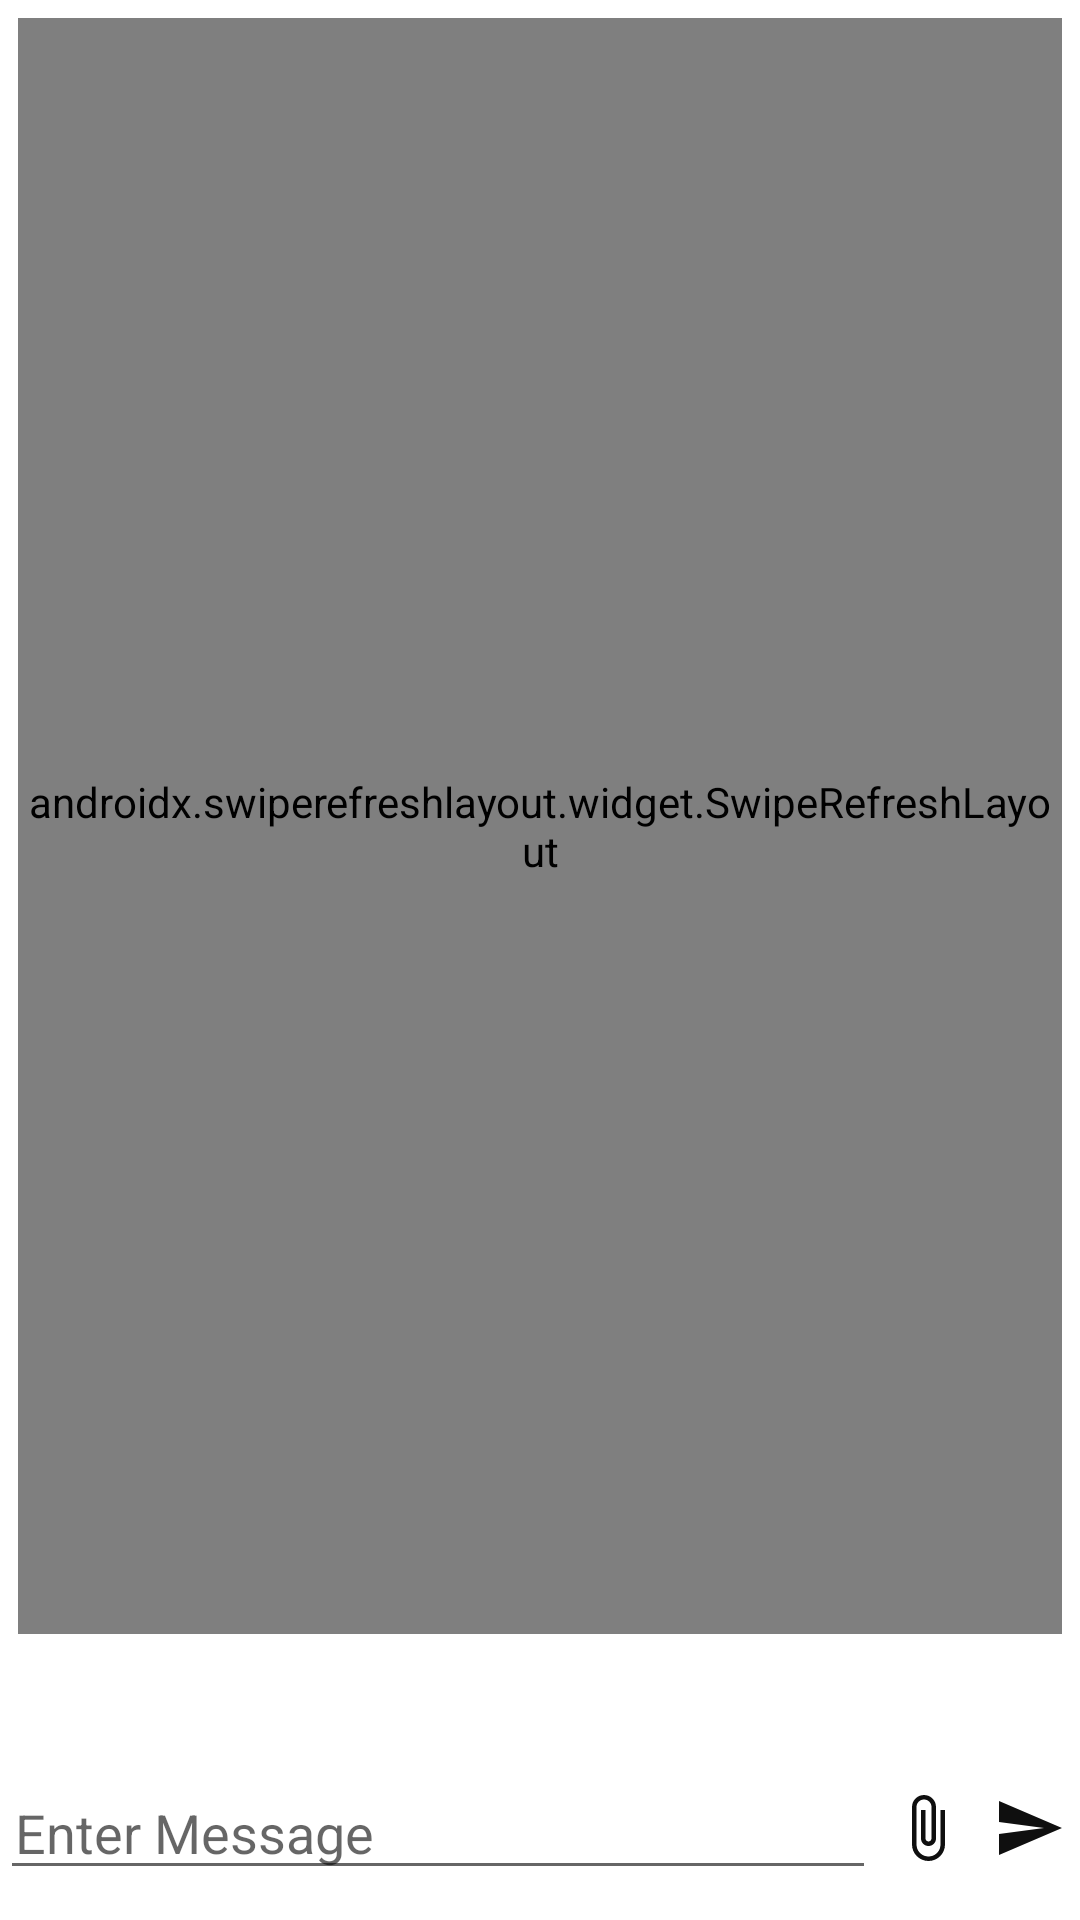

Icons on this 1080 × 1920 Android screen, each with its box as (x1, y1, x2, y2):
attach: (912, 1795, 945, 1861)
send: (999, 1801, 1062, 1855)
